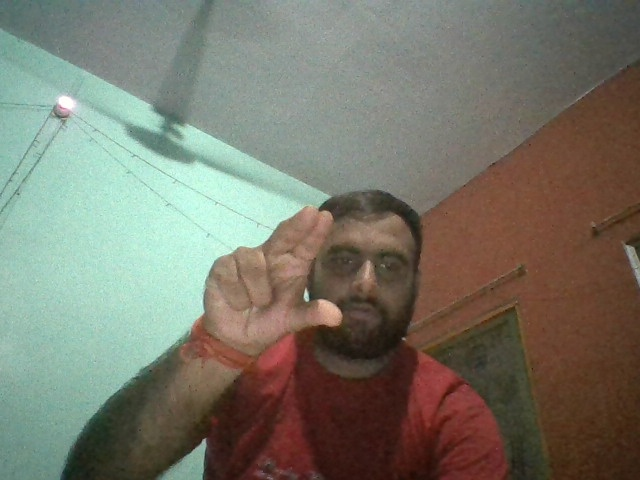hello: (201, 204, 344, 333)
